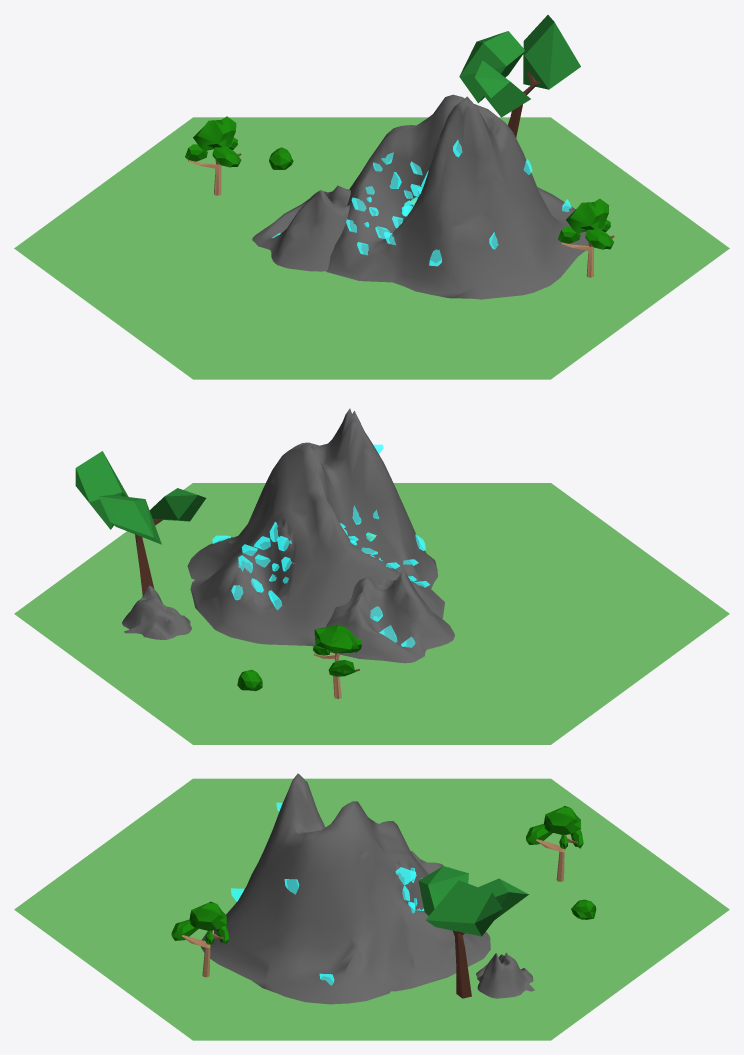
Rendered from Hexagone ressource diamand.fbx.
3 renders of one model, top to bottom at view 1: azimuth 30°, elevation 25°; view 2: azimuth 150°, elevation 25°; view 3: azimuth 270°, elevation 25°, orthographic.
Parts seen in each view (by area): view 1: Cylinder; view 2: Cylinder; view 3: Cylinder.
Boxes of the visible parts, box(x1,y1,x2,y2) form: Cylinder: box(14, 15, 729, 379); Cylinder: box(14, 408, 729, 744); Cylinder: box(14, 773, 729, 1040).
Size of the model in its own units: 17.32 by 20 by 5.23.
